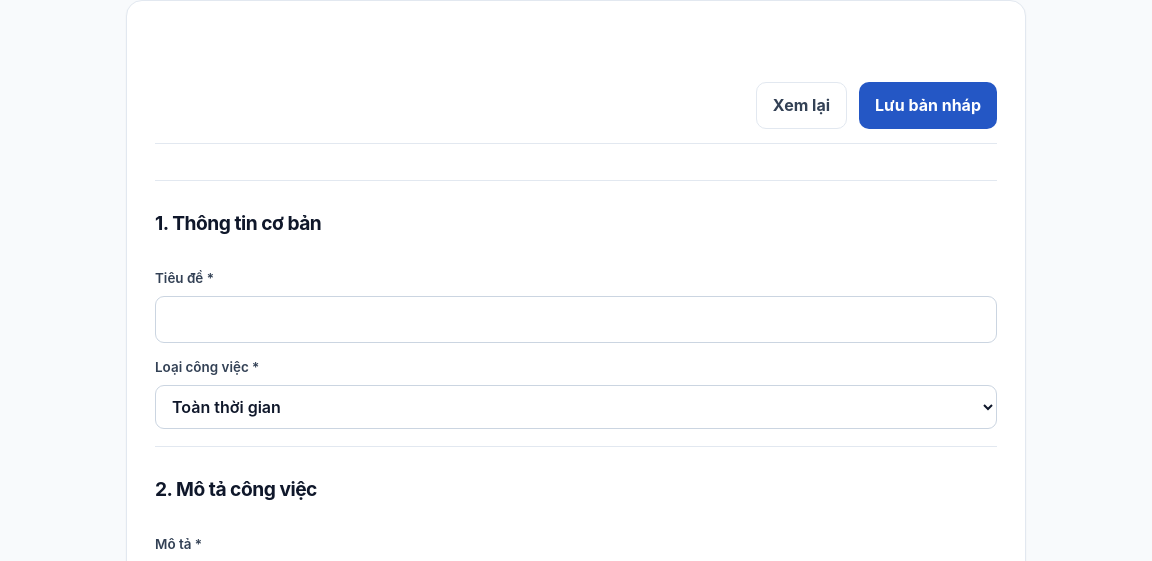
Test: UX journeys › validates and focuses missing Job title while preserving edits after API error
The width and height of the screenshot is (1152, 561).
Step 1. Click the button "Lưu bản nháp" → {"x": 928, "y": 105}, box [859,82,997,129]
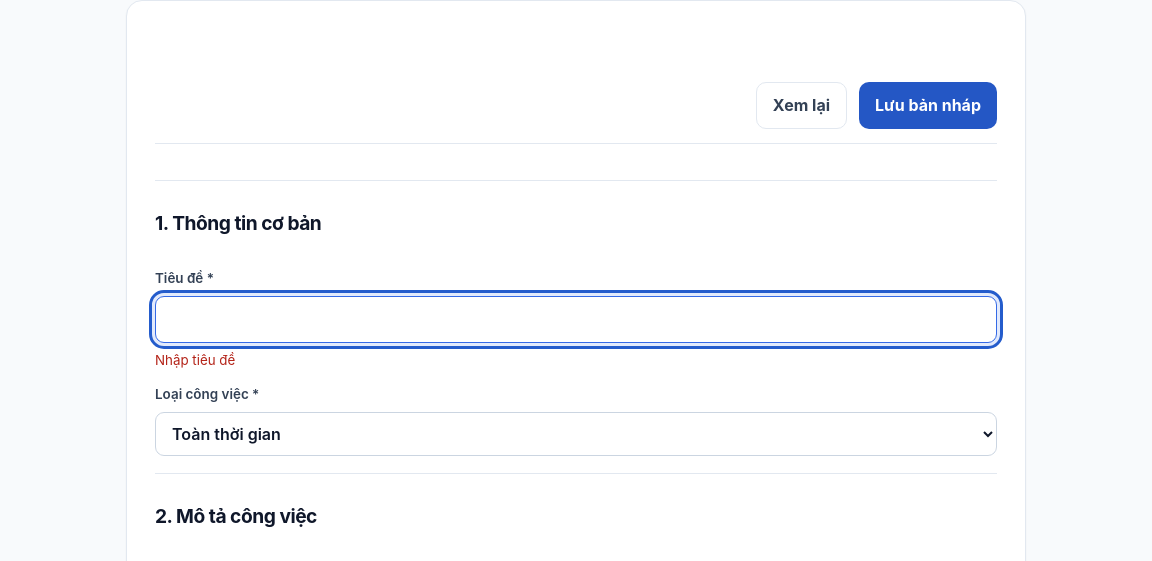
Now the text "Nhập tiêu đề" is shown, box [155,352,235,368]
Step 2. Type "Kỹ sư mới" into the field labelled "Tiêu đề *" → {"x": 576, "y": 319}, box [155,296,997,343]
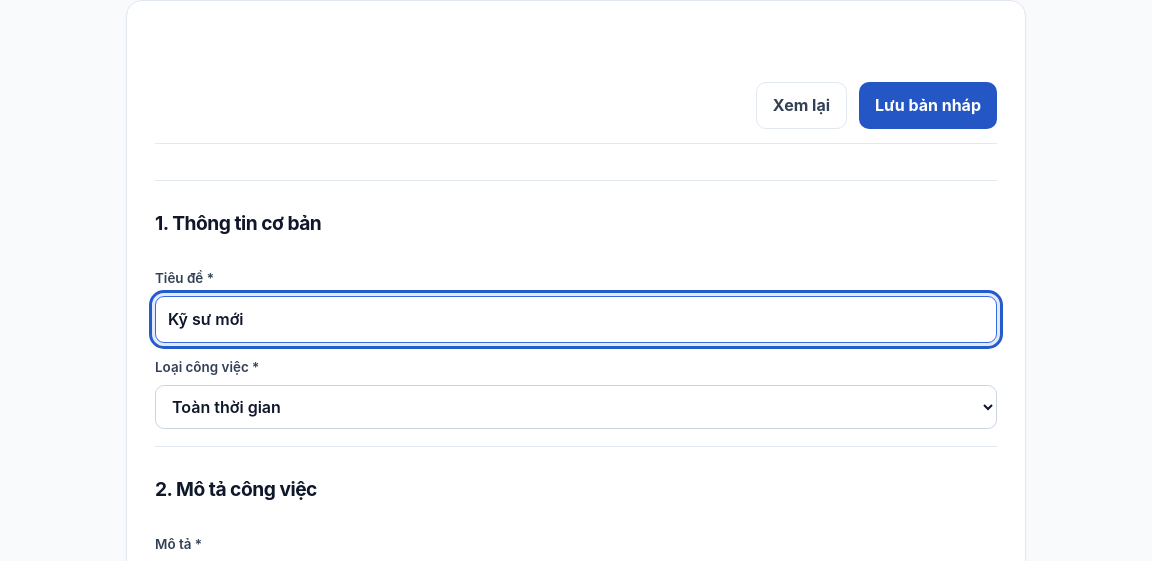
Step 3. Click the button "Lưu bản nháp" → {"x": 928, "y": 105}, box [859,82,997,129]
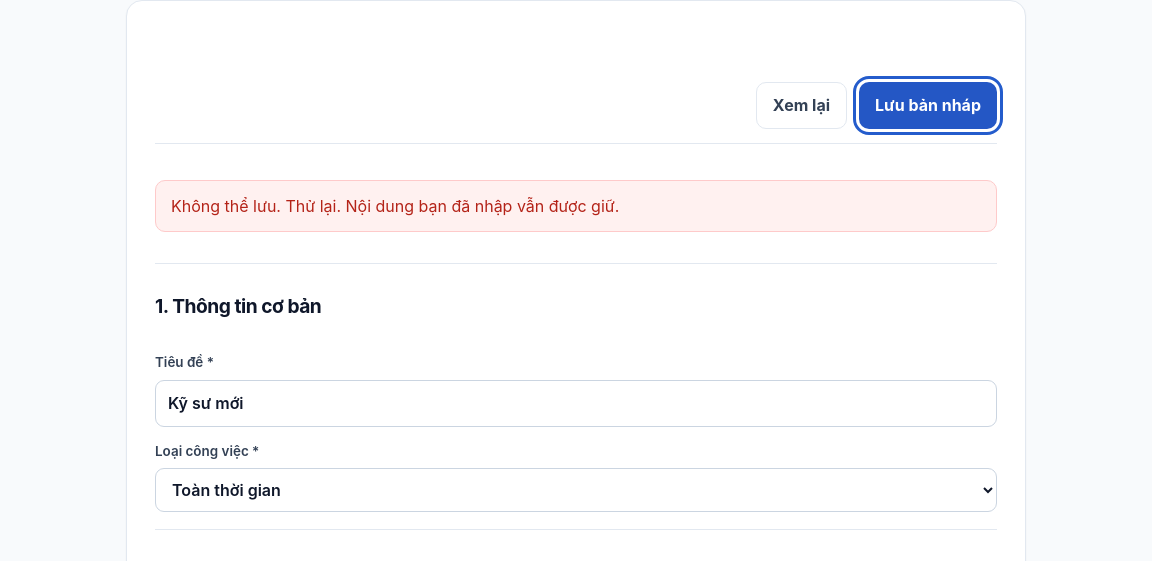
Now the text "Không thể lưu. Thử lại. Nội dung bạn đã nhập vẫn được giữ." is shown, box [155,180,997,232]
